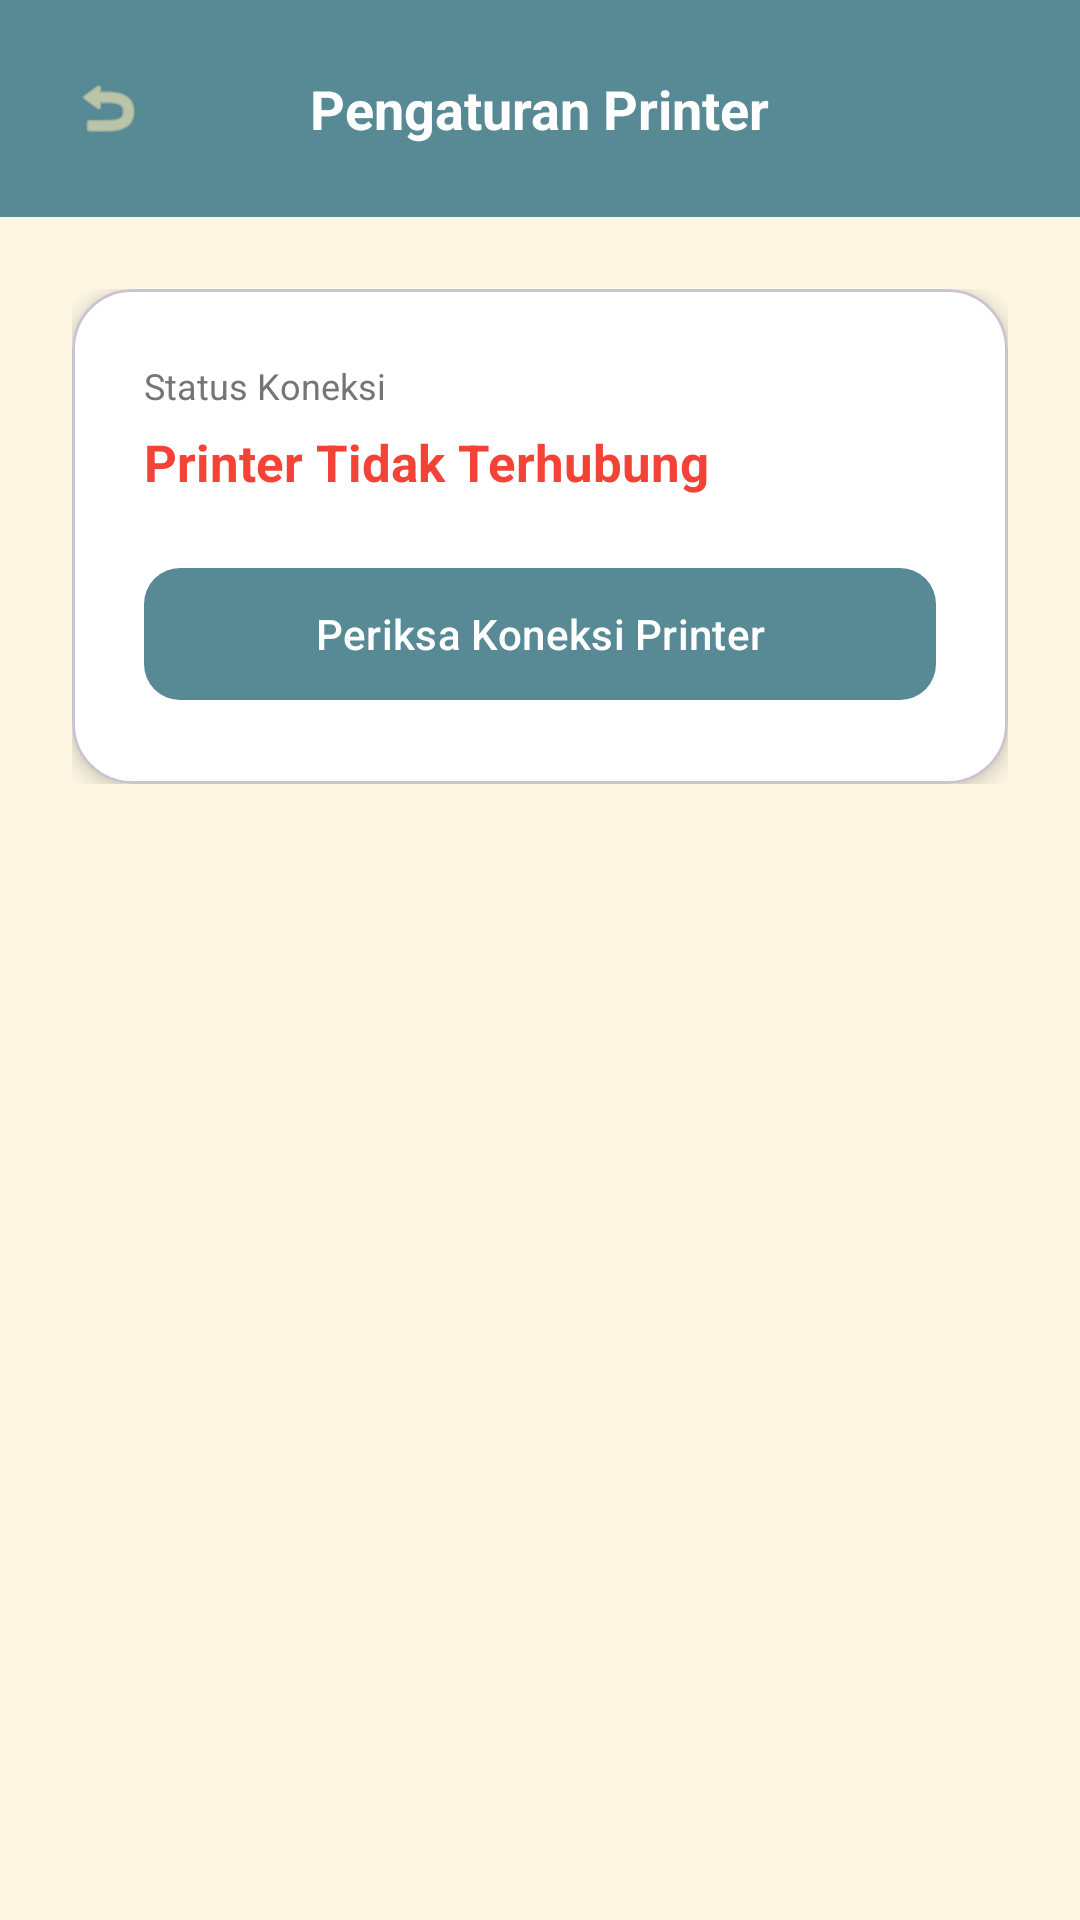

Screen size 1080×1920. Icon name, then its box in pixels as {"x1": x1, "y1": y1, "x2": x2, "y2": y2}:
revert: {"x1": 83, "y1": 85, "x2": 135, "y2": 132}
